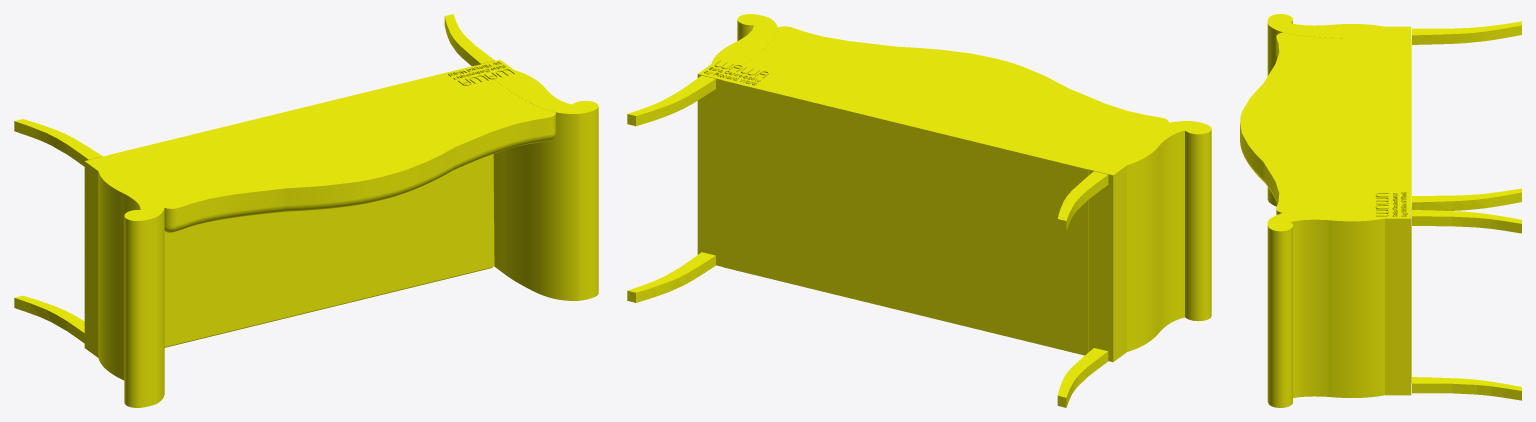
Rendered from Soho Centro.obj.
3 renders of one model, left to right at view 1: azimuth 30°, elevation 25°; view 2: azimuth 150°, elevation 25°; view 3: azimuth 270°, elevation 25°, orthographic. The views are drawn at different scales.
Visible parts, largest first — view 1: Shape1716, Shape3414, Shape1719, Shape1669, Shape0, Shape1721, Shape3415, Shape3416, Shape3406, Shape3407, Shape3410, Shape1681 (+5 smaller); view 2: Shape1713, Shape3414, Shape1719, Shape1724, Shape1670, Shape1669, Shape0, Shape1721, Shape1705, Shape1685, Shape1703, Shape1683 (+2 smaller); view 3: Shape3414, Shape1719, Shape1725, Shape0, Shape1721, Shape1679, Shape1699, Shape1681, Shape1683, Shape1703, Shape1701, Shape1689 (+58 smaller).
Boxes of the visible parts, x1,y1,x2,y2 form: Shape1716: [164, 154, 492, 346]; Shape3414: [129, 79, 555, 208]; Shape1719: [109, 65, 492, 168]; Shape1669: [84, 161, 98, 357]; Shape0: [85, 155, 164, 220]; Shape1721: [475, 60, 598, 113]; Shape3415: [178, 188, 284, 224]; Shape3416: [284, 176, 382, 205]; Shape3406: [456, 117, 549, 163]; Shape3407: [383, 147, 456, 193]; Shape3410: [175, 205, 284, 231]; Shape1681: [15, 119, 102, 159]; Shape1713: [722, 80, 1087, 355]; Shape3414: [742, 26, 1168, 155]; Shape1719: [722, 67, 1106, 169]; Shape1724: [697, 74, 722, 266]; Shape1670: [1088, 169, 1113, 361]; Shape1669: [1113, 165, 1126, 361]; Shape0: [1089, 121, 1211, 175]; Shape1721: [698, 14, 777, 79]; Shape1705: [636, 264, 703, 302]; Shape1685: [636, 87, 703, 126]; Shape1703: [628, 252, 715, 292]; Shape1683: [628, 75, 715, 115]; Shape3414: [1240, 32, 1375, 212]; Shape1719: [1375, 38, 1411, 206]; Shape1725: [1385, 218, 1411, 395]; Shape0: [1267, 14, 1411, 38]; Shape1721: [1267, 207, 1411, 231]; Shape1679: [1433, 25, 1521, 44]; Shape1699: [1433, 192, 1521, 210]; Shape1681: [1412, 21, 1521, 35]; Shape1683: [1412, 210, 1521, 223]; Shape1703: [1412, 377, 1521, 390]; Shape1701: [1412, 188, 1521, 202]; Shape1689: [1452, 216, 1504, 230].
Size of the model in its own units: 1.45 by 0.5533 by 0.795.
